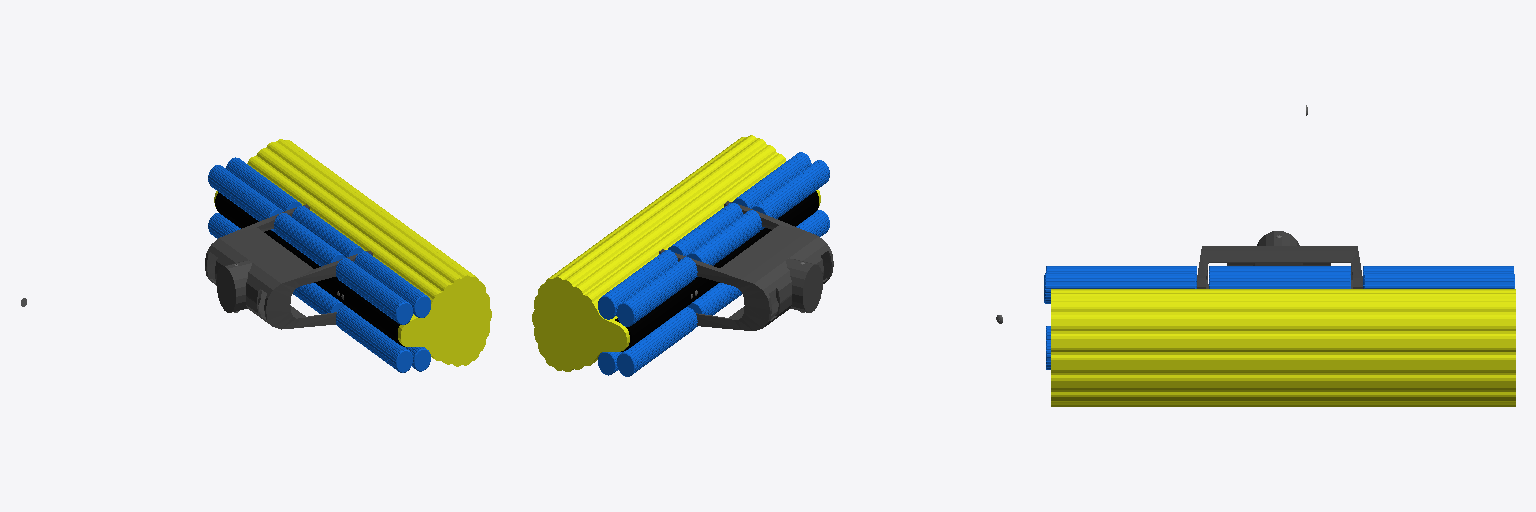
The robot description file, URDF, robot "spot_arm":
<?xml version="1.0" ?>
<robot name="spot_arm" xmlns:xacro="http://www.ros.org/wiki/xacro">

<material name="silver">
  <color rgba="0.700 0.700 0.700 1.000"/>
</material>
<link name="body">
    <visual>
        <geometry>
            <mesh filename="package://spot_arm/meshes/body.dae" />
        </geometry>
    </visual>
    <collision>
        <geometry>
            <mesh filename="package://spot_arm/meshes/body_collision.dae" />
        </geometry>
    </collision>
</link>

<joint name="base_arm_joint" type="fixed">
  <origin xyz="0.29 0 0.08" rpy="0 0 0" />
  <parent link="body" />
  <child link="base_arm_link" />
</joint>

<link name="base_arm_link">
  <inertial>
    <origin rpy="0 0 0" xyz="1.2371844231029972e-17 0.0 0.0325"/>
    <mass value="5.770791545379091"/>
    <inertia ixx="0.007226" ixy="-0.0" ixz="0.0" iyy="0.007226" iyz="0.0" izz="0.010387"/>
  </inertial>
  <visual>
    <origin rpy="0 0 0" xyz="0 0 0"/>
    <geometry>
      <mesh filename="package://spot_arm/meshes/arm/base_link.dae" scale="0.1 0.1 0.1"/>
    </geometry>
  </visual>
  <collision>
    <origin rpy="0 0 0" xyz="0 0 0"/>
    <geometry>
      <mesh filename="package://spot_arm/meshes/arm/base_link_collision.dae" scale="0.1 0.1 0.1"/>
    </geometry>
  </collision>
</link>

<joint name="arm_joint1" type="revolute">
  <origin rpy="0 0 1.5707963267948966" xyz="0.0 0.0 0.065"/>
  <parent link="base_arm_link"/>
  <child link="link1"/>
  <axis xyz="0.0 0.0 1.0"/>
  <limit effort="100" lower="-3.141593" upper="2.617994" velocity="100"/>
</joint>

<link name="link1">
  <inertial>
    <origin rpy="0 0 0" xyz="0.05071972800114364 -1.0308563411658574e-17 0.04676911608650795"/>
    <mass value="6.925827706354272"/>
    <inertia ixx="0.01241" ixy="-0.0" ixz="-0.001047" iyy="0.010387" iyz="0.0" izz="0.012306"/>
  </inertial>
  <visual>
    <origin rpy="0 0 0" xyz="-0.0 -0.0 -0.065"/>
    <geometry>
      <mesh filename="package://spot_arm/meshes/arm/link1.dae" scale="0.1 0.1 0.1"/>
    </geometry>
    <material name="silver"/>
  </visual>
  <collision>
    <origin rpy="0 0 0" xyz="-0.0 -0.0 -0.065"/>
    <geometry>
      <mesh filename="package://spot_arm/meshes/arm/link1_collision.dae" scale="0.1 0.1 0.1"/>
    </geometry>
  </collision>
</link>


<joint name="arm_joint2" type="revolute">
  <origin rpy="-3.141592653589793 0 0" xyz="0.015 0.0 0.05"/>
  <parent link="link1"/>
  <child link="link2"/>
  <axis xyz="1.0 0.0 0.0"/>
  <limit effort="100" lower="-3.665191" upper="0.0" velocity="100"/>
</joint>


<link name="link2">
  <inertial>
    <origin rpy="0 0 0" xyz="-0.0163095589512068 0.17540914221218962 0.0"/>
    <mass value="12.658281999999998"/>
    <inertia ixx="0.12979" ixy="0.002625" ixz="0.0" iyy="0.01004" iyz="0.0" izz="0.129493"/>
  </inertial>
  <visual>
    <origin rpy="0 0 0" xyz="-0.015 -0.0 -0.115"/>
    <geometry>
      <mesh filename="package://spot_arm/meshes/arm/link2.dae" scale="0.1 0.1 0.1"/>
    </geometry>
    <material name="silver"/>
  </visual>
  <collision>
    <origin rpy="0 0 0" xyz="-0.015 -0.0 -0.115"/>
    <geometry>
      <mesh filename="package://spot_arm/meshes/arm/link2_collision.dae" scale="0.1 0.1 0.1"/>
    </geometry>
  </collision>
</link>



<joint name="arm_joint3" type="revolute">
  <origin rpy="0 0 0" xyz="0.002 0.3125 0.0"/>
  <parent link="link2"/>
  <child link="link3"/>
  <axis xyz="1.0 0.0 0.0"/>
  <limit effort="100" lower="0.0" upper="2.96706" velocity="100"/>
</joint>


<link name="link3">
  <inertial>
    <origin rpy="0 0 0" xyz="-0.015621881612358529 0.06665620790957599 -0.058074231003688394"/>
    <mass value="7.368455487741179"/>
    <inertia ixx="0.018073" ixy="0.000915" ixz="-0.00101" iyy="0.011789" iyz="0.003728" izz="0.01667"/>
  </inertial>
  <visual>
    <origin rpy="0 0 0" xyz="-0.017 -0.3125 -0.115"/>
    <geometry>
      <mesh filename="package://spot_arm/meshes/arm/link3.dae" scale="0.1 0.1 0.1"/>
    </geometry>
    <material name="silver"/>
  </visual>
  <collision>
    <origin rpy="0 0 0" xyz="-0.017 -0.3125 -0.115"/>
    <geometry>
      <mesh filename="package://spot_arm/meshes/arm/link3_collision.dae" scale="0.1 0.1 0.1"/>
    </geometry>
  </collision>
</link>


<joint name="arm_joint4" type="revolute">
  <origin rpy="0 0 0" xyz="-0.018 0.138 -0.0675"/>
  <parent link="link3"/>
  <child link="link4"/>
  <axis xyz="0.0 1.0 0.0"/>
  <limit effort="100" lower="-2.879793" upper="2.879793" velocity="100"/>
</joint>


<link name="link4">
  <inertial>
    <origin rpy="0 0 0" xyz="-0.00911464892336129 0.12606054498393937 5.551115123125783e-17"/>
    <mass value="10.95245995004642"/>
    <inertia ixx="0.066789" ixy="0.011971" ixz="-0.0" iyy="0.014993" iyz="0.0" izz="0.071949"/>
  </inertial>
  <visual>
    <origin rpy="0 0 0" xyz="0.001 -0.4505 -0.0475"/>
    <geometry>
      <mesh filename="package://spot_arm/meshes/arm/link4.dae" scale="0.1 0.1 0.1"/>
    </geometry>
    <material name="silver"/>
  </visual>
  <collision>
    <origin rpy="0 0 0" xyz="0.001 -0.4505 -0.0475"/>
    <geometry>
      <mesh filename="package://spot_arm/meshes/arm/link4_collision.dae" scale="0.1 0.1 0.1"/>
    </geometry>
  </collision>
</link>


<joint name="arm_joint5" type="revolute">
  <origin rpy="0 0 0" xyz="-0.0475 0.24809 0.0"/>
  <parent link="link4"/>
  <child link="wrist"/>
  <axis xyz="1.0 0.0 0.0"/>
  <limit effort="100" lower="-1.570796" upper="1.570796" velocity="100"/>
</joint>



<link name="wrist">
  <inertial>
    <origin rpy="0 0 0" xyz="0.03954999709763633 0.03472006124891969 4.209155544249166e-08"/>
    <mass value="3.2278801394086396"/>
    <inertia ixx="0.00339" ixy="-2.1e-05" ixz="0.0" iyy="0.002242" iyz="-0.0" izz="0.003439"/>
  </inertial>
  <visual>
    <origin rpy="0 0 0" xyz="0.0485 -0.69859 -0.0475"/>
    <geometry>
      <mesh filename="package://spot_arm/meshes/arm/wrist.dae" scale="0.1 0.1 0.1"/>
    </geometry>
    <material name="silver"/>
  </visual>
  <collision>
    <origin rpy="0 0 0" xyz="0.0485 -0.69859 -0.0475"/>
    <geometry>
      <mesh filename="package://spot_arm/meshes/arm/wrist_collision.dae" scale="0.1 0.1 0.1"/>
    </geometry>
  </collision>
</link>

<joint name="arm_joint6" type="revolute">
  <origin rpy="0 0 0" xyz="0.04 0.081 0.0"/>
  <parent link="wrist"/>
  <child link="gripper"/>
  <axis xyz="-0.0 1.0 0.0"/>
  <limit effort="100" lower="-2.96706" upper="2.96706" velocity="100"/>
</joint>


<link name="gripper">
  <inertial>
    <origin rpy="0 0 0" xyz="-8.366123908053191e-08 0.07051371901138614 0.017123167388316526"/>
    <mass value="5.9780007036604434"/>
    <inertia ixx="0.01723" ixy="0.0" ixz="0.0" iyy="0.00734" iyz="-0.003871" izz="0.0153"/>
  </inertial>
  <visual>
    <origin rpy="0 0 0" xyz="0.0085 -0.77959 -0.0475"/>
    <geometry>
      <mesh filename="package://spot_arm/meshes/arm/gripper.dae" scale="0.1 0.1 0.1"/>
    </geometry>
    <material name="silver"/>
  </visual>
  <collision>
    <origin rpy="0 0 0" xyz="0.0085 -0.77959 -0.0475"/>
    <geometry>
      <mesh filename="package://spot_arm/meshes/arm/gripper_collision.dae" scale="0.1 0.1 0.1"/>
    </geometry>
  </collision>
</link>

<joint name="arm_gripper" type="revolute">
  <origin rpy="0 0 0" xyz="-0.86859 0.043915 -0.029"/>
  <parent link="gripper"/>
  <child link="finger"/>
  <axis xyz="1.0 -0.0 0.0"/>
  <limit effort="100" lower="-1.396263" upper="0.349066" velocity="100"/>
</joint>

<link name="finger">
  <inertial>
    <origin rpy="0 0 0" xyz="0.8635899028063472 0.09862056591557622 0.00850232975194119"/>
    <mass value="1.71236178687828"/>
    <inertia ixx="0.002129" ixy="0.0" ixz="-0.0" iyy="0.001681" iyz="0.000162" izz="0.003403"/>
  </inertial>
  <visual>
    <origin rpy="0 0 0" xyz="0.87709 -0.823505 -0.0185"/>
    <geometry>
      <mesh filename="package://spot_arm/meshes/arm/finger.dae" scale="0.1 0.1 0.1"/>
    </geometry>
    <material name="silver"/>
  </visual>
  <collision>
    <origin rpy="0 0 0" xyz="0.87709 -0.823505 -0.0185"/>
    <geometry>
      <mesh filename="package://spot_arm/meshes/arm/finger_collision.dae" scale="0.1 0.1 0.1"/>
    </geometry>
  </collision>
</link>

  <joint name="tool_tip_joint" type="fixed">
    <origin xyz="0.0 0.25 0.0" rpy="-1.570796 0 0" />
    <parent link="gripper" />
    <child link="tool_tip" />
  </joint>

  <link name="tool_tip"/>

  <joint name="finger_tip_joint" type="fixed">
    <origin rpy="-1.570796 0 0" xyz="0 0.20 0"/>
    <parent link="gripper"/>
    <child link="finger_tip"/>
  </joint>

  <link name="finger_tip"/>

   <link name="base_link"/>
    <joint name="base_link_joint" type="fixed">
        <origin xyz="0 0 0" rpy="0 0 0" />
        <parent link="body" />
        <child link="base_link" />
    </joint>

    <link name="front_rail"/>
    <joint name="front_rail_joint" type="fixed">
        <origin xyz="0.223 0 0.0805" rpy="0 0 0" />
        <parent link="body" />
        <child link="front_rail" />
    </joint>

    <link name="real_front_rail"/>
    <joint name="real_front_rail_joint" type="fixed">
        <origin xyz="0.2075 0 0.0805" rpy="0 0 0" />
        <parent link="body" />
        <child link="real_front_rail" />
    </joint>

    <link name="rear_rail"/>
    <joint name="rear_rail_joint" type="fixed">
        <origin xyz="-0.223 0 0.0805" rpy="0 0 0" />
        <parent link="body" />
        <child link="rear_rail" />
    </joint>

    <link name="real_rear_rail"/>
    <joint name="real_rear_rail_joint" type="fixed">
        <origin xyz="-0.415 0 0" rpy="0 0 0" />
        <parent link="real_front_rail" />
        <child link="real_rear_rail" />
    </joint>

    <link name="front_left_hip">
        <visual>
            <geometry>
                <mesh filename="package://spot_arm/meshes/front_left_hip.dae" />
            </geometry>
        </visual>
        <collision>
            <geometry>
                <mesh filename="package://spot_arm/meshes/front_left_hip_collision.dae" />
            </geometry>
        </collision>
    </link>
    <joint name="front_left_hip_x" type="revolute">
        <origin xyz="0.29785 0.05500 0.00000" rpy="0.0 0 0" />
        <axis xyz="1 0 0" />
        <parent link="body" />
        <child link="front_left_hip" />
        <limit effort="1000" velocity="1000.00" lower="-0.78539816339744827899" upper="0.78539816339744827899" />
    </joint>
    <link name="front_left_upper_leg">
        <visual>
            <geometry>
                <mesh filename="package://spot_arm/meshes/front_left_upper_leg.dae" />
            </geometry>
        </visual>
        <collision>
            <geometry>
                <mesh filename="package://spot_arm/meshes/front_left_upper_leg_collision.dae" />
            </geometry>
        </collision>
    </link>
    <joint name="front_left_hip_y" type="revolute">
        <origin xyz="0.0 0.110945 0.0" rpy="0 1.3 0" />
        <axis xyz="0 1 0" />
        <parent link="front_left_hip" />
        <child link="front_left_upper_leg" />
        <limit effort="1000" velocity="1000.00" lower="-0.89884456477707963539" upper="2.2951079663725435509" />
    </joint>
    <link name="front_left_lower_leg">
        <visual>
            <geometry>
                <mesh filename="package://spot_arm/meshes/front_left_lower_leg.dae" />
            </geometry>
        </visual>
        <collision>
            <geometry>
                <mesh filename="package://spot_arm/meshes/front_left_lower_leg_collision.dae" />
            </geometry>
        </collision>
    </link>
    <joint name="front_left_knee" type="revolute">
        <origin xyz="0.025 0.000 -0.3205" rpy="0 -2.5 0" />
        <axis xyz="0 1 0" />
        <parent link="front_left_upper_leg" />
        <child link="front_left_lower_leg" />
        <limit effort="1000" velocity="1000.00" lower="-2.7929" upper="-0.254801" />
    </joint>
    <link name="front_right_hip">
        <visual>
            <geometry>
                <mesh filename="package://spot_arm/meshes/front_right_hip.dae" />
            </geometry>
        </visual>
        <collision>
            <geometry>
                <mesh filename="package://spot_arm/meshes/front_right_hip_collision.dae" />
            </geometry>
        </collision>
    </link>
    <joint name="front_right_hip_x" type="revolute">
        <origin xyz="0.29785 -0.05500 0.00000" rpy="0 0 0" />
        <axis xyz="1 0 0" />
        <parent link="body" />
        <child link="front_right_hip" />
        <limit effort="1000" velocity="1000.00" lower="-0.78539816339744827899" upper="0.78539816339744827899" />
    </joint>
    <link name="front_right_upper_leg">
        <visual>
            <geometry>
                <mesh filename="package://spot_arm/meshes/front_right_upper_leg.dae" />
            </geometry>
        </visual>
        <collision>
            <geometry>
                <mesh filename="package://spot_arm/meshes/front_right_upper_leg_collision.dae" />
            </geometry>
        </collision>
    </link>
    <joint name="front_right_hip_y" type="revolute">
        <origin xyz="0.0 -0.110945 0.0" rpy="0 1.3 0" />
        <axis xyz="0 1 0" />
        <parent link="front_right_hip" />
        <child link="front_right_upper_leg" />
        <limit effort="1000" velocity="1000.00" lower="-0.89884456477707963539" upper="2.2951079663725435509" />
    </joint>
    <link name="front_right_lower_leg">
        <visual>
            <geometry>
                <mesh filename="package://spot_arm/meshes/front_right_lower_leg.dae" />
            </geometry>
        </visual>
        <collision>
            <geometry>
                <mesh filename="package://spot_arm/meshes/front_right_lower_leg_collision.dae" />
            </geometry>
        </collision>
    </link>
    <joint name="front_right_knee" type="revolute">
        <origin xyz="0.025 0.000 -0.3205" rpy="0 -2.5 0" />
        <axis xyz="0 1 0" />
        <parent link="front_right_upper_leg" />
        <child link="front_right_lower_leg" />
        <limit effort="1000" velocity="1000.00" lower="-2.7929" upper="-0.247563" />
    </joint>
    <link name="rear_left_hip">
        <visual>
            <geometry>
                <mesh filename="package://spot_arm/meshes/rear_left_hip.dae" />
            </geometry>
        </visual>
        <collision>
            <geometry>
                <mesh filename="package://spot_arm/meshes/rear_left_hip_collision.dae" />
            </geometry>
        </collision>
    </link>
    <joint name="rear_left_hip_x" type="revolute">
        <origin xyz="-0.29785 0.05500 0.00000" rpy="0 0 0" />
        <axis xyz="1 0 0" />
        <parent link="body" />
        <child link="rear_left_hip" />
        <limit effort="1000" velocity="1000.00" lower="-0.78539816339744827899" upper="0.78539816339744827899" />
    </joint>
    <link name="rear_left_upper_leg">
        <visual>
            <geometry>
                <mesh filename="package://spot_arm/meshes/rear_left_upper_leg.dae" />
            </geometry>
        </visual>
        <collision>
            <geometry>
                <mesh filename="package://spot_arm/meshes/rear_left_upper_leg_collision.dae" />
            </geometry>
        </collision>
    </link>
    <joint name="rear_left_hip_y" type="revolute">
        <origin xyz="0.0 0.110945 0.0" rpy="0 1.3 0" />
        <axis xyz="0 1 0" />
        <parent link="rear_left_hip" />
        <child link="rear_left_upper_leg" />
        <limit effort="1000" velocity="1000.00" lower="-0.89884456477707963539" upper="2.2951079663725435509" />
    </joint>
    <link name="rear_left_lower_leg">
        <visual>
            <geometry>
                <mesh filename="package://spot_arm/meshes/rear_left_lower_leg.dae" />
            </geometry>
        </visual>
        <collision>
            <geometry>
                <mesh filename="package://spot_arm/meshes/rear_left_lower_leg_collision.dae" />
            </geometry>
        </collision>
    </link>
    <joint name="rear_left_knee" type="revolute">
        <origin xyz="0.025 0.000 -0.3205" rpy="0 -2.5 0" />
        <axis xyz="0 1 0" />
        <parent link="rear_left_upper_leg" />
        <child link="rear_left_lower_leg" />
        <limit effort="1000" velocity="1000.00" lower="-2.7929" upper="-0.267153" />
    </joint>
    <link name="rear_right_hip">
        <visual>
            <geometry>
                <mesh filename="package://spot_arm/meshes/rear_right_hip.dae" />
            </geometry>
        </visual>
        <collision>
            <geometry>
                <mesh filename="package://spot_arm/meshes/rear_right_hip_collision.dae" />
            </geometry>
        </collision>
    </link>
    <joint name="rear_right_hip_x" type="revolute">
        <origin xyz="-0.29785 -0.05500 0.00000" rpy="0 0 0" />
        <axis xyz="1 0 0" />
        <parent link="body" />
        <child link="rear_right_hip" />
        <limit effort="1000" velocity="1000.00" lower="-0.78539816339744827899" upper="0.78539816339744827899" />
    </joint>
    <link name="rear_right_upper_leg">
        <visual>
            <geometry>
                <mesh filename="package://spot_arm/meshes/rear_right_upper_leg.dae" />
            </geometry>
        </visual>
        <collision>
            <geometry>
                <mesh filename="package://spot_arm/meshes/rear_right_upper_leg_collision.dae" />
            </geometry>
        </collision>
    </link>
    <joint name="rear_right_hip_y" type="revolute">
        <origin xyz="0.0 -0.110945 0.0" rpy="0 1.3 0" />
        <axis xyz="0 1 0" />
        <parent link="rear_right_hip" />
        <child link="rear_right_upper_leg" />
        <limit effort="1000" velocity="1000.00" lower="-0.89884456477707963539" upper="2.2951079663725435509" />
    </joint>
    <link name="rear_right_lower_leg">
        <visual>
            <geometry>
                <mesh filename="package://spot_arm/meshes/rear_right_lower_leg.dae" />
            </geometry>
        </visual>
        <collision>
            <geometry>
                <mesh filename="package://spot_arm/meshes/rear_right_lower_leg_collision.dae" />
            </geometry>
        </collision>
    </link>
    <joint name="rear_right_knee" type="revolute">
        <origin xyz="0.025 0.000 -0.3205" rpy="0 -2.5 0" />
        <axis xyz="0 1 0" />
        <parent link="rear_right_upper_leg" />
        <child link="rear_right_lower_leg" />
        <limit effort="1000" velocity="1000.00" lower="-2.7929" upper="-0.257725" />
    </joint>

    <link name="cleaning_tool">
        <visual>
            <geometry>
                <mesh filename="package://spot_arm/meshes/cleaning_tool.dae" />
            </geometry>
        </visual>
        <collision>
            <geometry>
                <mesh filename="package://spot_arm/meshes/cleaning_tool_collision.dae" />
            </geometry>
        </collision>
    </link>

    <joint name="cleaning_tool_joint" type="fixed">
      <origin xyz="0.0 0.15 0.0" rpy="1.570796 0 0" />
      <parent link="gripper" />
      <child link="cleaning_tool" />
    </joint>
</robot>

--- Facts derived from the render (not from the file) ---
The picture shows the robot from 3 angles, left to right: view 1: azimuth 30°, elevation 25°; view 2: azimuth 150°, elevation 25°; view 3: azimuth 270°, elevation 25°; orthographic projection.
Robot: spot_arm — 29 links, 28 joints (19 revolute, 9 fixed); root link body; default pose: joints at zero except 4 at the middle of their limits (front_left_knee = -1.52, front_right_knee = -1.52, rear_left_knee = -1.53, rear_right_knee = -1.53).
Links seen in each view (by area): view 1: cleaning_tool; view 2: cleaning_tool; view 3: cleaning_tool.
Boxes of the visible links, bbox=[...] form: cleaning_tool: bbox=[21, 139, 491, 372]; cleaning_tool: bbox=[532, 135, 1002, 376]; cleaning_tool: bbox=[1044, 105, 1515, 406].
Bounding box of the posed robot: 0.2449 × 0.2178 × 0.0573 m (x, y, z).
1 mesh visuals loaded from 22 distinct referenced files (1 Collada DAE); not drawn: 21 (reference not matched to a file when rendering).